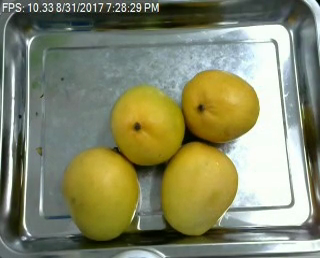Mango: (160, 142, 238, 236), (63, 149, 139, 242), (110, 83, 185, 164), (184, 69, 260, 143)
